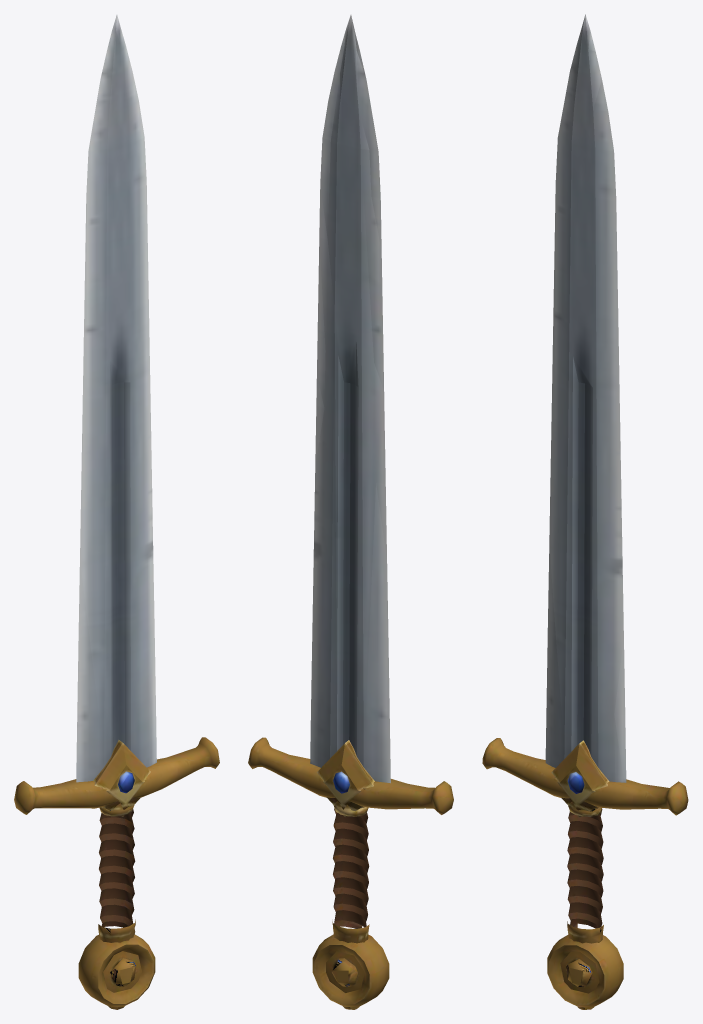
The model's file is warden-sword.low.glb.
The picture shows the model from 3 angles, left to right: view 1: azimuth 30°, elevation 25°; view 2: azimuth 150°, elevation 25°; view 3: azimuth 330°, elevation 25°; orthographic projection.
Parts seen in each view (by area): view 1: warden-sword; view 2: warden-sword; view 3: warden-sword.
Boxes of the visible parts, x1=… form: warden-sword: x1=14, y1=15, x2=219, y2=1009; warden-sword: x1=248, y1=15, x2=453, y2=1009; warden-sword: x1=482, y1=14, x2=688, y2=1009.
Size of the model in its own units: 0.212 by 1.01 by 0.0437.
Materials: 1 (1 with a texture image).
